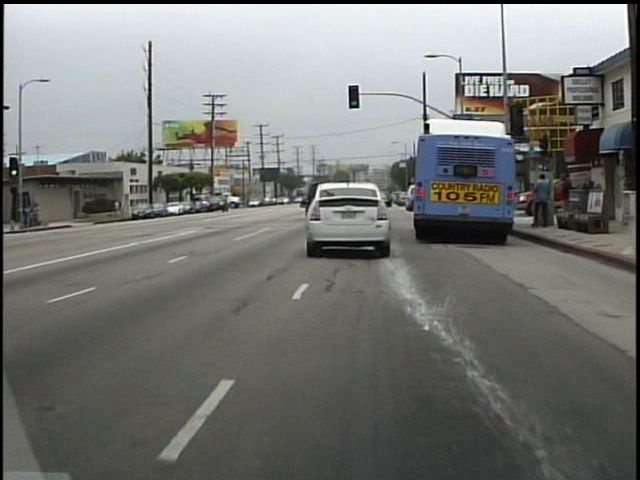person: (527, 170, 551, 232), (111, 195, 122, 218)
